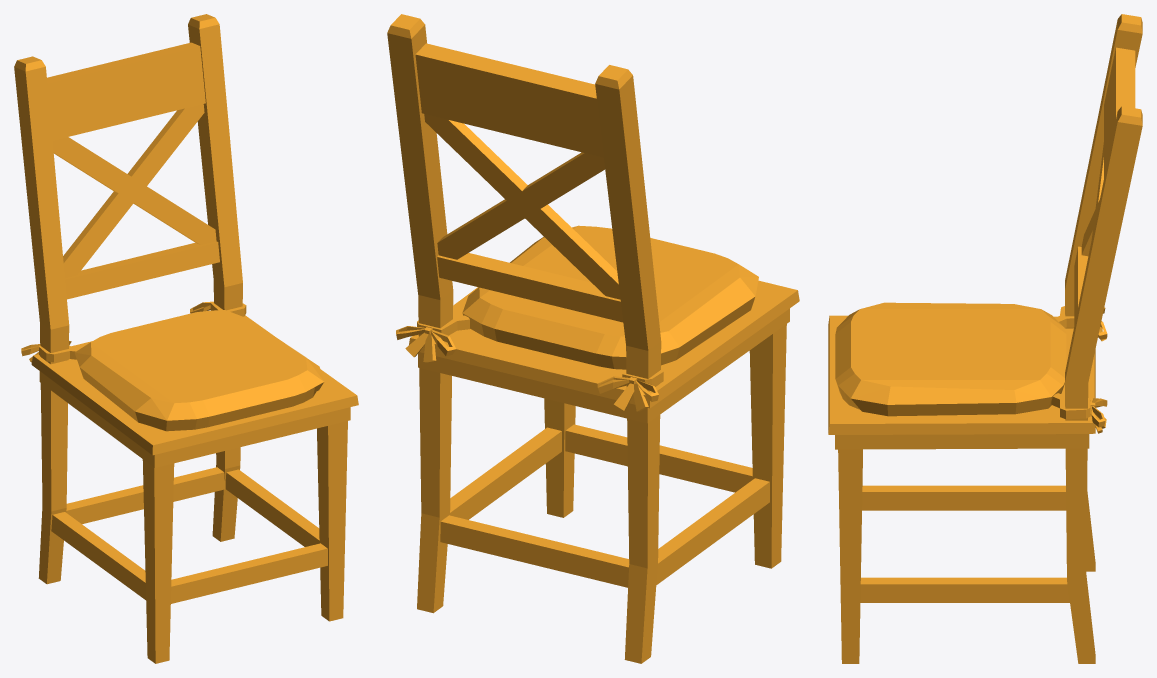
File: SM_Chair_Dinner_Farm_B.fbx
3 views of the same model, side by side, from view 1: azimuth 30°, elevation 25°; view 2: azimuth 150°, elevation 25°; view 3: azimuth 270°, elevation 25° (orthographic). The views are drawn at different scales.
Visible parts, largest first — view 1: chair-dinner-farm-b; view 2: chair-dinner-farm-b; view 3: chair-dinner-farm-b.
Boxes of the visible parts, x1,y1,x2,y2 form: chair-dinner-farm-b: (14,14,358,663); chair-dinner-farm-b: (387,14,799,663); chair-dinner-farm-b: (828,14,1142,663).
Size of the model in its own units: 0.4641 by 1.02 by 0.5284.
